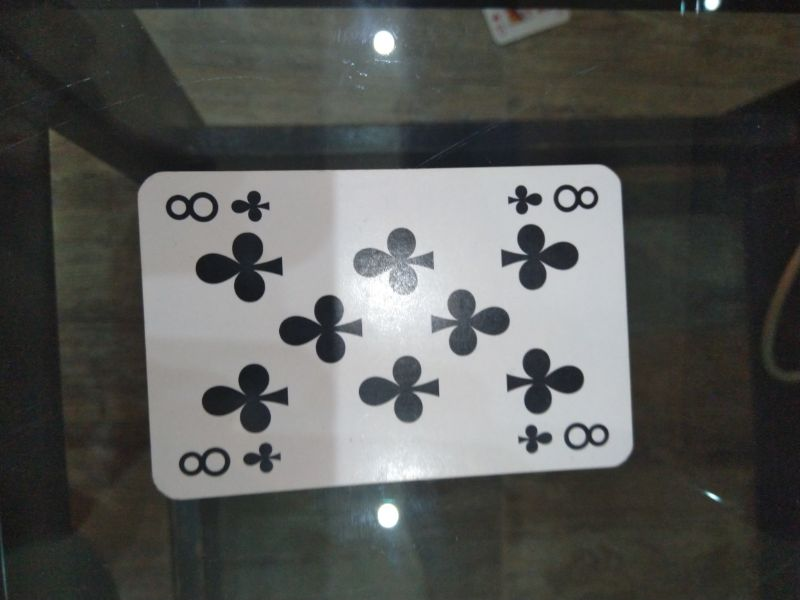8c: (162, 188, 275, 225), (176, 442, 287, 479), (504, 182, 603, 219), (515, 421, 612, 456)
